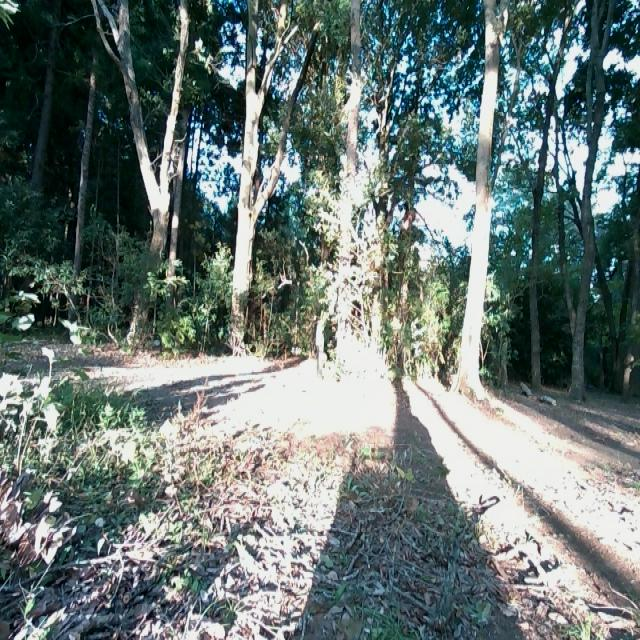bush: (1, 360, 136, 492), (155, 246, 230, 356), (381, 273, 455, 383), (257, 230, 315, 348), (72, 222, 128, 340)
tree: (444, 0, 509, 400), (223, 0, 292, 352), (125, 0, 187, 346), (563, 0, 612, 400), (330, 0, 365, 379), (364, 8, 398, 358), (21, 0, 65, 198), (68, 23, 100, 285), (528, 80, 549, 401)
